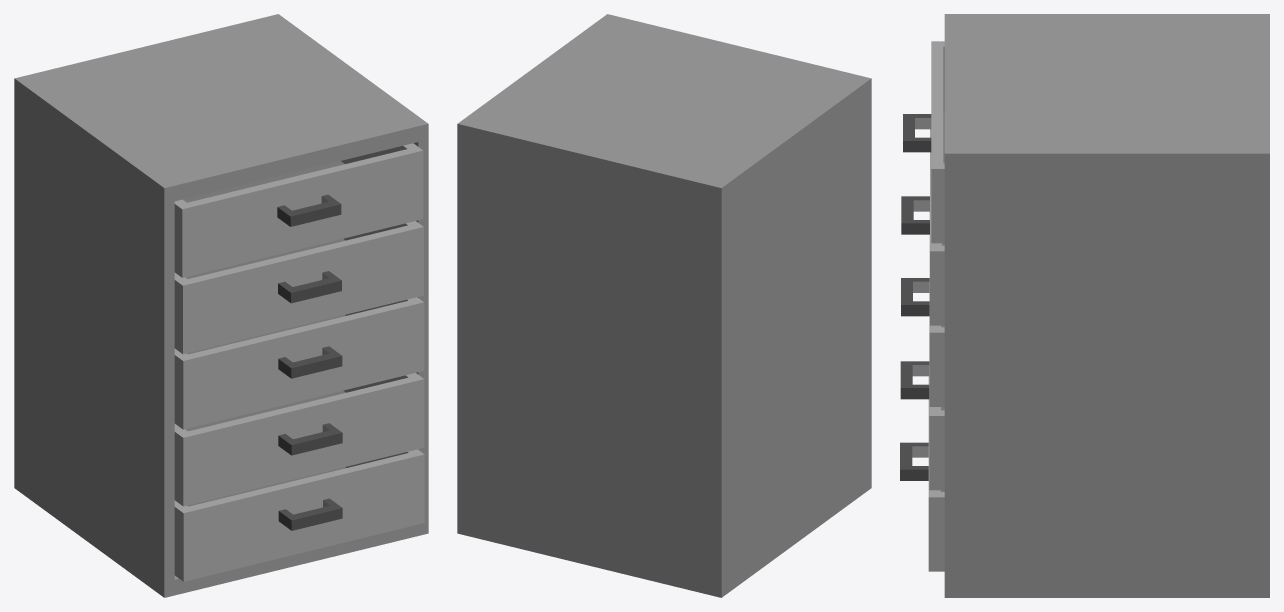
Rendered from Drawer_closed.fbx.
The picture shows the model from 3 angles, left to right: view 1: azimuth 30°, elevation 25°; view 2: azimuth 150°, elevation 25°; view 3: azimuth 270°, elevation 25°; orthographic projection. The views are drawn at different scales.
Visible parts, largest first — view 1: polySurface12; view 2: polySurface12; view 3: polySurface12.
Boxes of the visible parts, x1,y1,x2,y2 form: polySurface12: (14, 14, 428, 597); polySurface12: (457, 14, 871, 597); polySurface12: (900, 14, 1269, 597).
Bounding box in the file's own units: 22.21 × 32.94 × 24.86.
